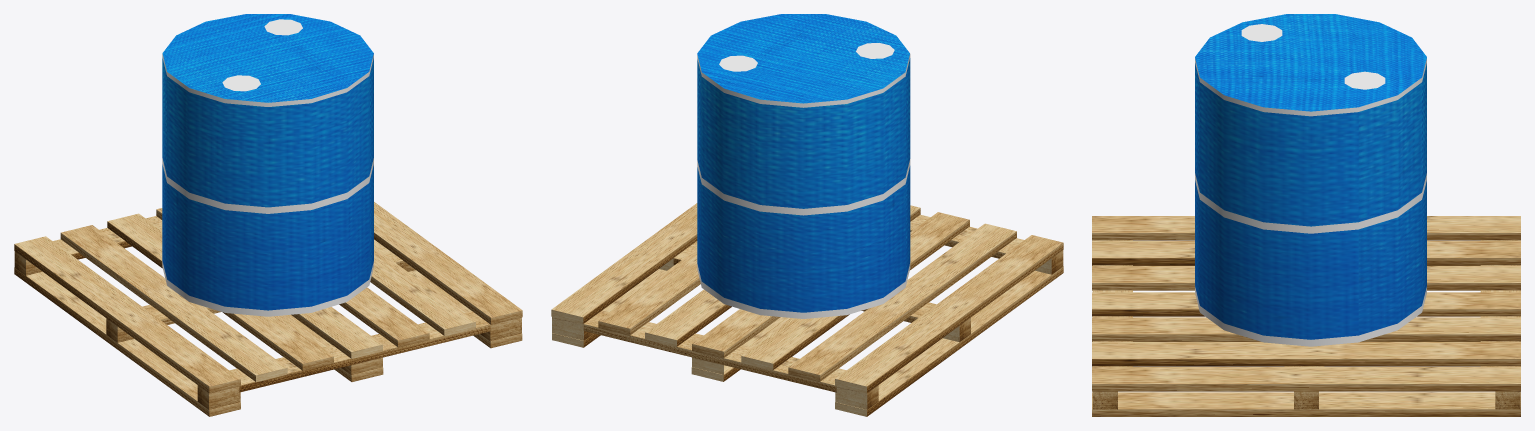
Rendered from Barrel.fbx.
3 renders of one model, left to right at view 1: azimuth 30°, elevation 25°; view 2: azimuth 150°, elevation 25°; view 3: azimuth 270°, elevation 25°, orthographic. The views are drawn at different scales.
Parts seen in each view (by area): view 1: pCylinder4, pCube6, pCube8, pCube1, pCube7, pCube9, pCube2, pCube24, pCube4, pCube3, pCube18, pCube14 (+6 smaller); view 2: pCylinder4, pCube6, pCube8, pCube1, pCube7, pCube9, pCube2, pCube22, pCube4, pCube3, pCube18, pCube14 (+5 smaller); view 3: pCylinder4, pCube1, pCube2, pCube18, pCube4, pCube3, pCube6, pCube7, pCube8, pCylinder6, pCylinder5, pCube21 (+2 smaller).
Boxes of the visible parts, x1,y1,x2,y2 form: pCylinder4: (162, 14, 373, 316); pCube6: (14, 236, 240, 393); pCube8: (60, 225, 287, 382); pCube1: (374, 202, 522, 324); pCube7: (107, 213, 333, 370); pCube9: (14, 267, 240, 416); pCube2: (370, 247, 475, 336); pCube24: (229, 311, 490, 392); pCube4: (339, 287, 429, 347); pCube3: (156, 208, 382, 358); pCube18: (374, 239, 522, 348); pCube14: (279, 314, 383, 381); pCylinder4: (697, 14, 910, 318); pCube6: (835, 235, 1063, 393); pCube8: (788, 223, 1016, 381); pCube1: (551, 203, 697, 323); pCube7: (741, 212, 969, 370); pCube9: (835, 266, 1063, 416); pCube2: (598, 249, 700, 335); pCube22: (583, 310, 846, 392); pCube4: (645, 289, 731, 346); pCube3: (692, 205, 920, 358); pCube18: (552, 241, 697, 347); pCube14: (691, 317, 792, 381); pCylinder4: (1195, 14, 1426, 346); pCube1: (1092, 367, 1520, 391); pCube2: (1092, 342, 1520, 366); pCube18: (1092, 392, 1520, 416); pCube4: (1092, 317, 1520, 341); pCube3: (1092, 292, 1520, 316); pCube6: (1092, 216, 1520, 240); pCube7: (1092, 266, 1520, 290); pCube8: (1092, 241, 1520, 265); pCylinder6: (1241, 24, 1282, 41); pCylinder5: (1344, 71, 1385, 89); pCube21: (1495, 391, 1520, 409).
Size of the model in its own units: 196 by 150 by 211.
Materials: 3 (3 with a texture image).
